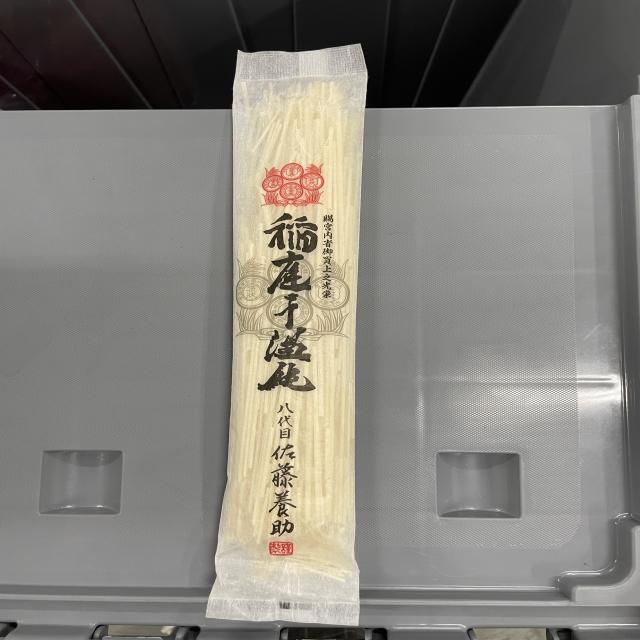object_name: (231, 58, 363, 618)
